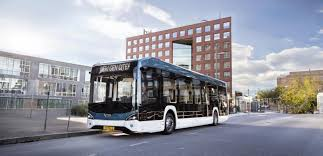bus: (85, 56, 229, 136)
